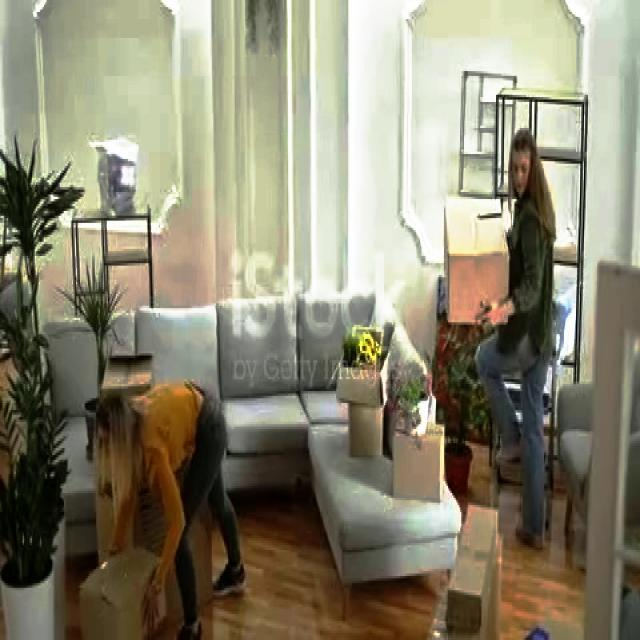Box: (448, 493, 500, 628), (448, 194, 504, 316), (88, 550, 152, 640), (340, 358, 391, 455), (394, 417, 449, 500)
